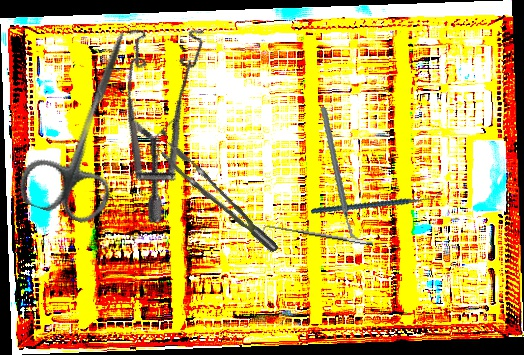Chopper: (296, 106, 384, 241), (310, 161, 444, 242)
Hook Surgical: (261, 221, 374, 255)
Iris Scissors: (13, 15, 163, 230)
Speculum: (72, 0, 270, 228)
Tissue Forceps: (158, 132, 280, 267)
